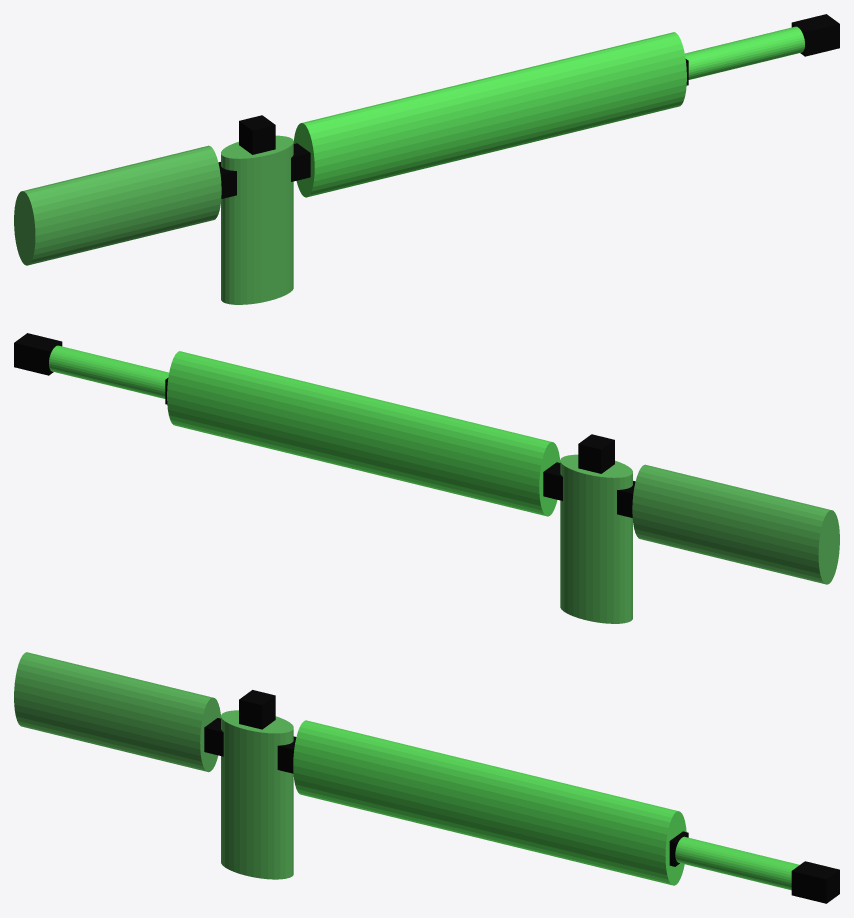
The model's file is green.glb.
The picture shows the model from 3 angles, top to bottom: view 1: azimuth 30°, elevation 25°; view 2: azimuth 150°, elevation 25°; view 3: azimuth 330°, elevation 25°; orthographic projection.
Visible parts, largest first — view 1: MainBody, Stock, Handle, Barrel, Connector2, HandleConnector, Connector3; view 2: MainBody, Stock, Handle, Barrel, Connector2, HandleConnector, Connector3; view 3: MainBody, Stock, Handle, Barrel, Connector2, HandleConnector, StockConnector, Connector3.
Boxes of the visible parts, x1,y1,x2,y2 form: MainBody: (293,32,686,197); Stock: (14,145,221,265); Handle: (221,135,293,304); Barrel: (685,26,804,79); Connector2: (791,14,839,56); HandleConnector: (239,115,275,154); Connector3: (291,143,310,181); MainBody: (167,351,560,516); Stock: (632,464,839,584); Handle: (560,454,632,623); Barrel: (49,345,168,398); Connector2: (14,333,62,375); HandleConnector: (578,434,614,473); Connector3: (543,462,562,500); MainBody: (293,720,686,885); Stock: (14,652,220,772); Handle: (221,710,293,879); Barrel: (675,836,799,890); Connector2: (791,861,839,903); HandleConnector: (239,690,275,729); StockConnector: (204,718,223,756); Connector3: (277,736,296,773).
Bounding box in the file's own units: 3.48 × 0.7 × 0.16.
